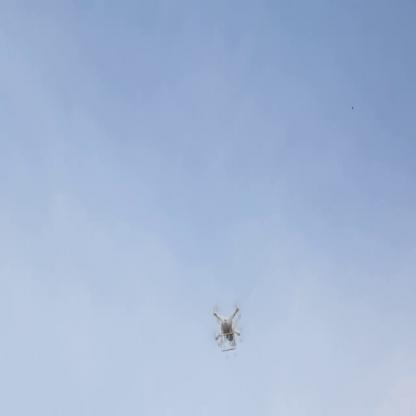drone: (209, 299, 246, 350)
